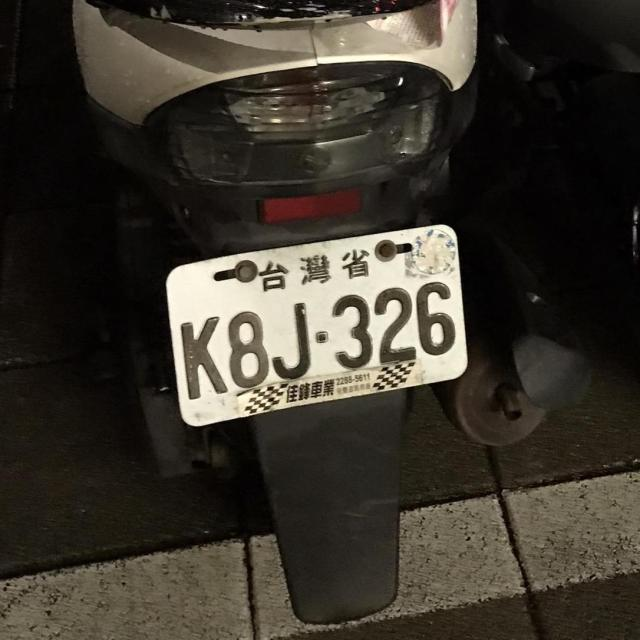W: (152, 219, 482, 432)
